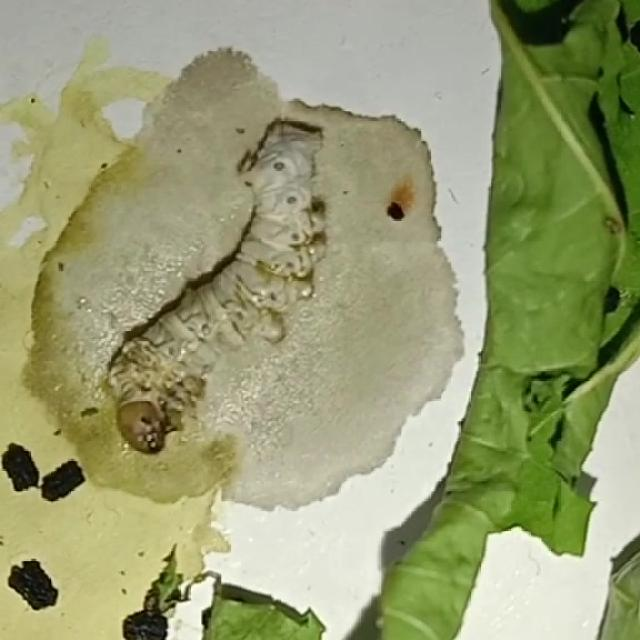Grasserie: (98, 112, 340, 454)
